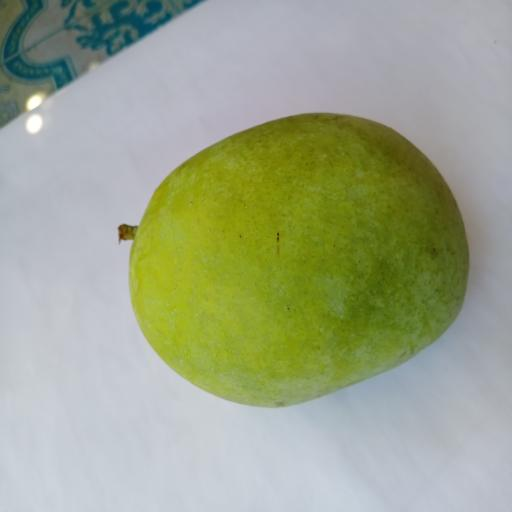mango-unripe: (97, 104, 478, 415)
